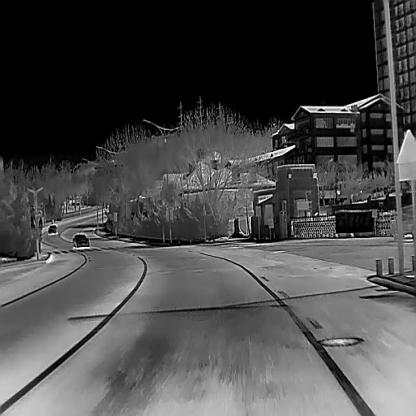car: (388, 204, 415, 240), (72, 232, 90, 247), (48, 224, 58, 233)
